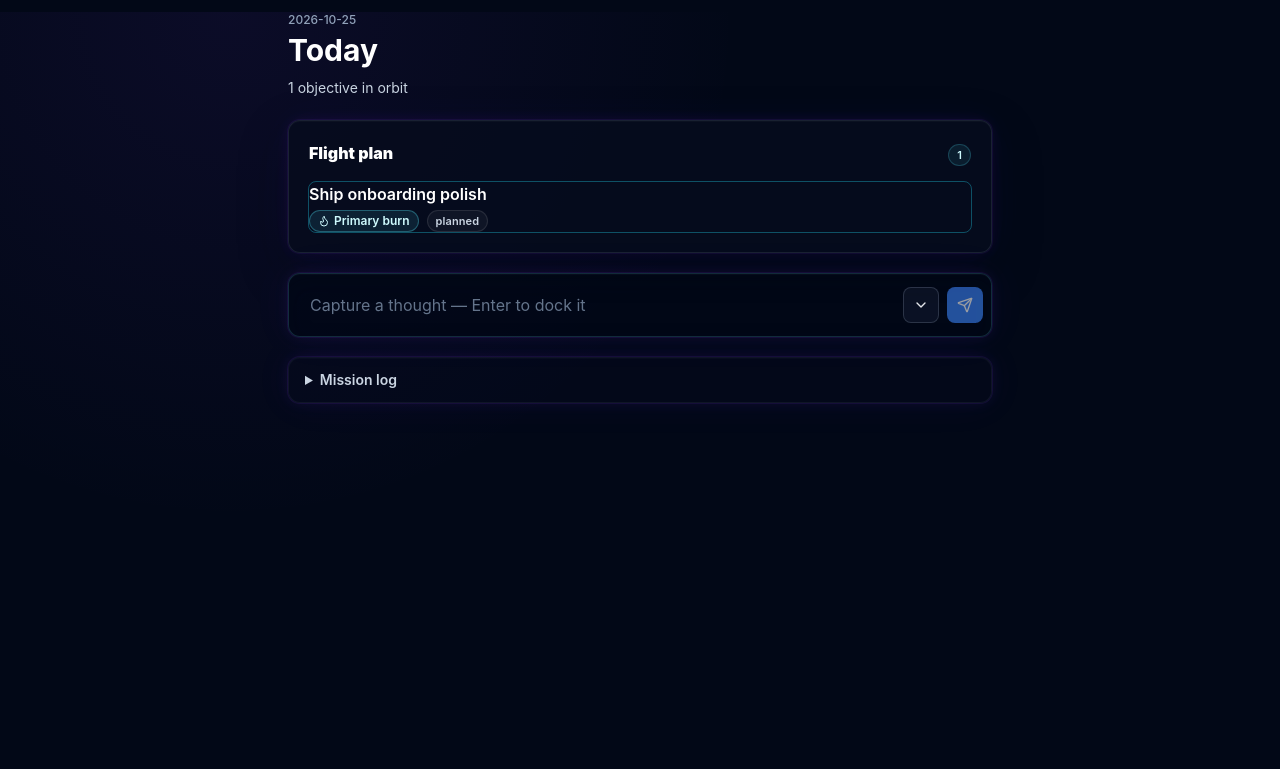
Test: DailyMissionControlPage › renders today's primary flight plan objective and momentum
Expected: the text "Primary burn" is shown, x1=309 y1=210 x2=418 y2=232
Expected: the text "1 objective in orbit" is shown, x1=288 y1=79 x2=408 y2=96
Click the heading "Mission log" at [358, 380], box x1=320 y1=371 x2=397 y2=388
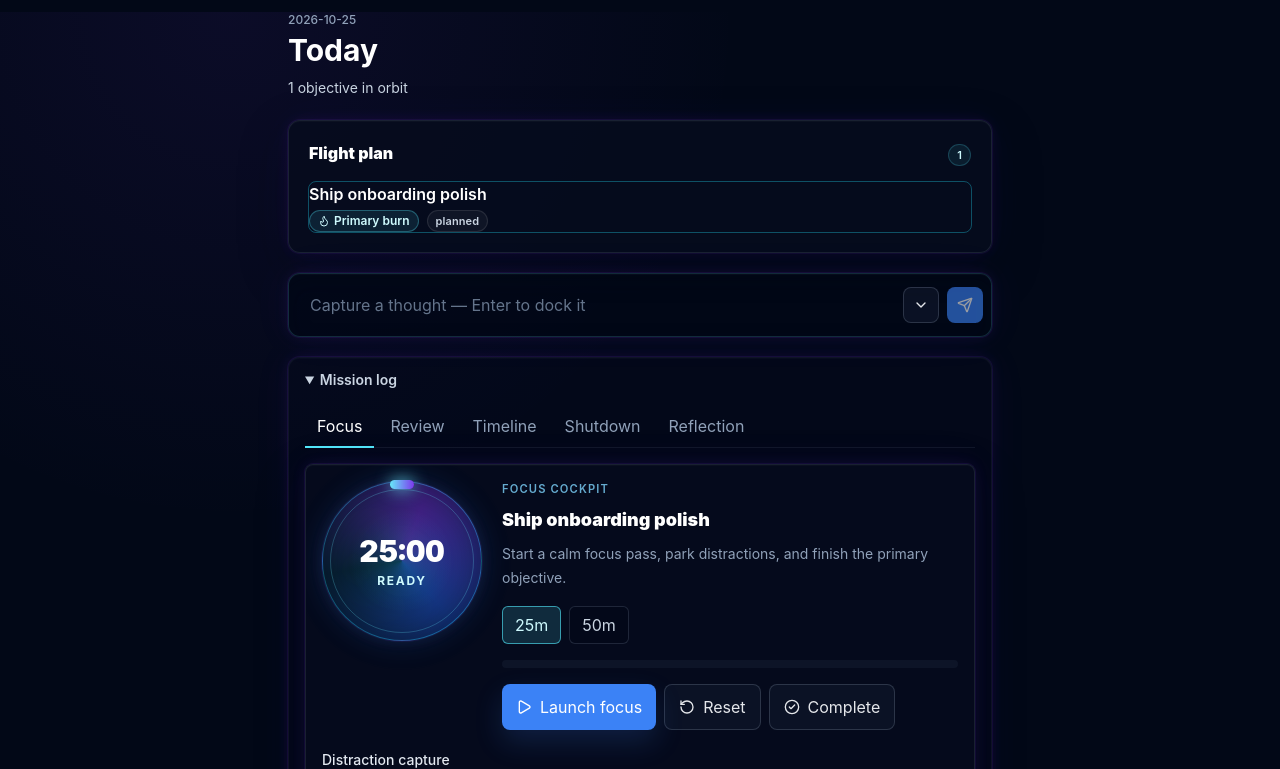
Click the tab "Review" at [418, 427], box x1=378 y1=406 x2=457 y2=448
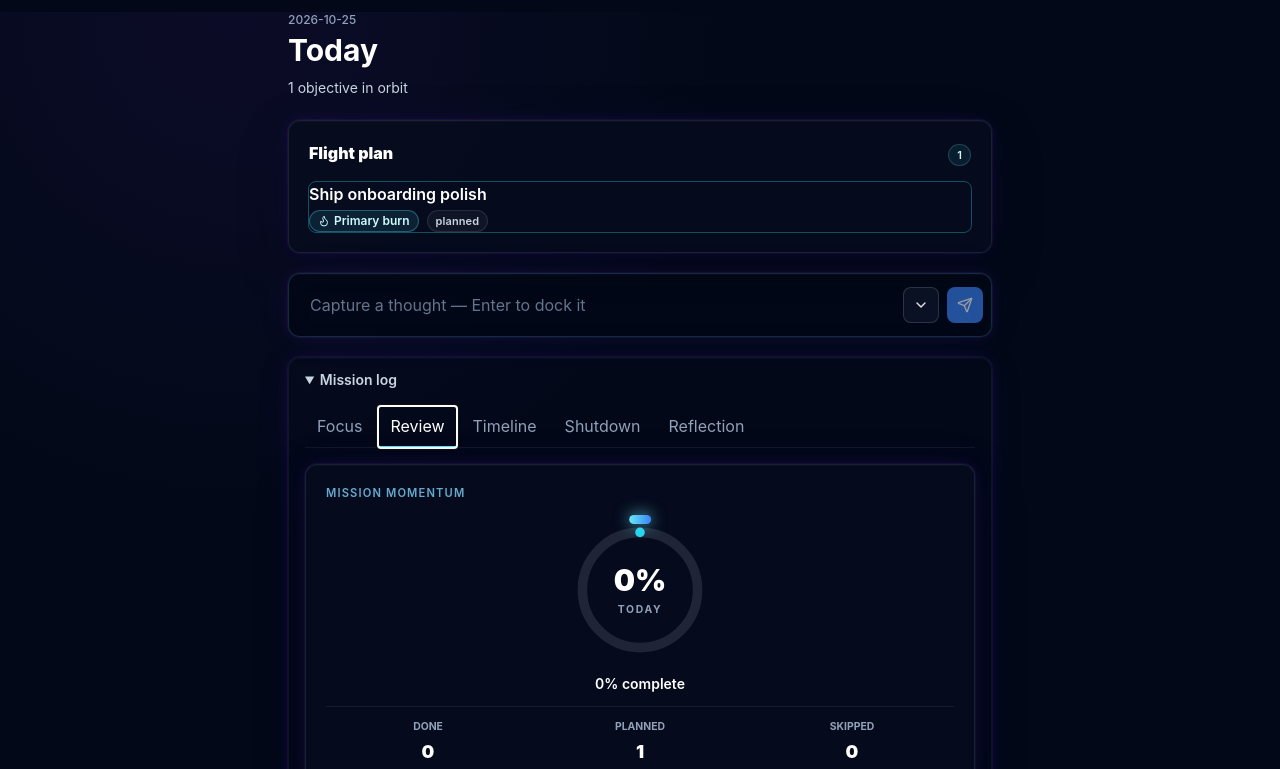
Expected: the text "0% complete" is shown, x1=595 y1=674 x2=685 y2=694
Click the tab "Timeline" at [505, 427], box x1=460 y1=406 x2=549 y2=448
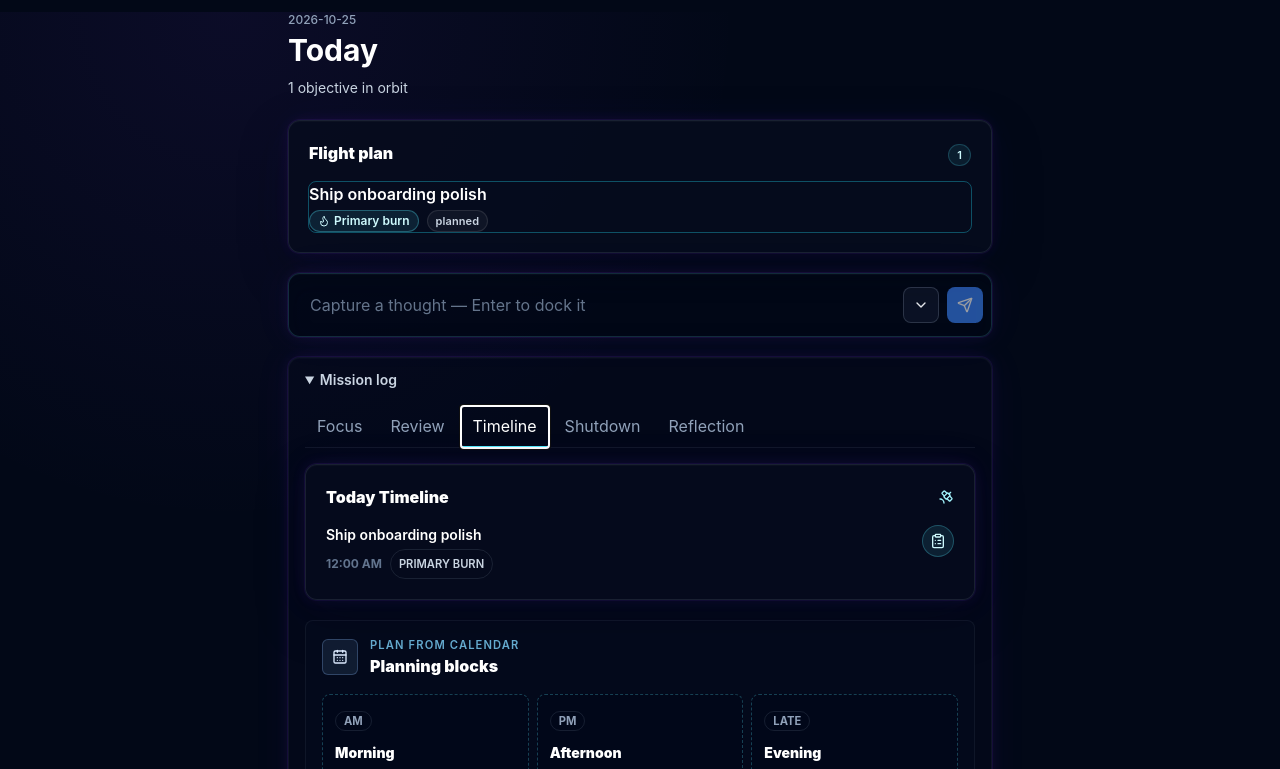
Expected: the heading "Today Timeline" is shown, x1=326 y1=485 x2=449 y2=509
